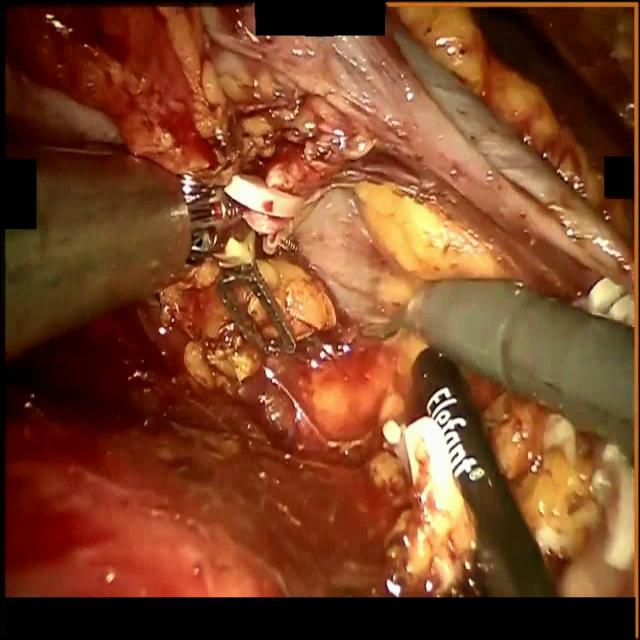surgical-area: (4, 6, 634, 598)
surgical-tool: (4, 140, 296, 364), (359, 279, 634, 452), (416, 348, 560, 598)
